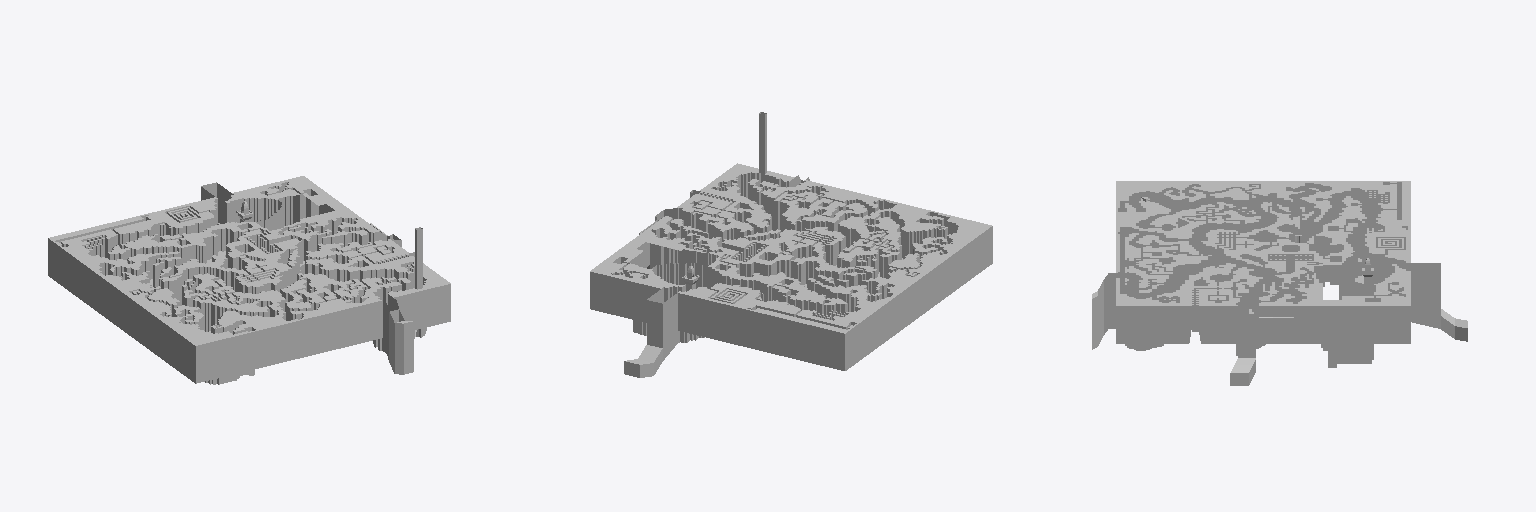
The picture shows the model from 3 angles: view 1: azimuth 30°, elevation 25°; view 2: azimuth 150°, elevation 25°; view 3: azimuth 270°, elevation 25°; orthographic projection.
Visible parts, largest first — view 1: Plane; view 2: Plane; view 3: Plane, Plane.009.
Part boxes in pixels (x1,y1,x2,y2): Plane: (48,176,450,384); Plane: (590,112,992,377); Plane: (1092,181,1467,385); Plane.009: (1268,245,1373,367).
Size of the model in its own units: 2.23 by 0.9644 by 2.55.